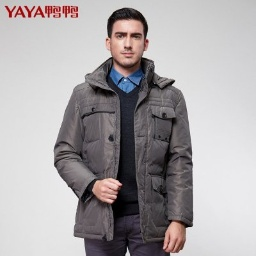face: (105, 8, 150, 66)
